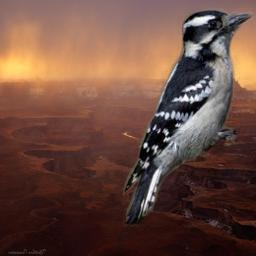Woodpecker: (123, 6, 253, 227)
